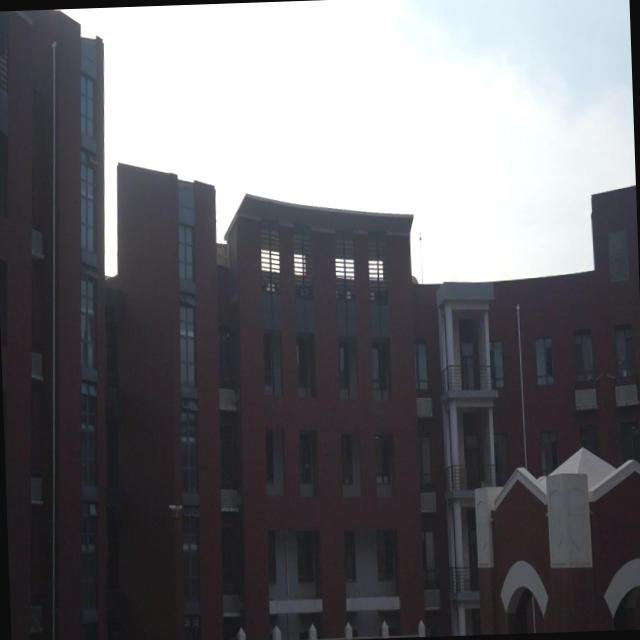drone: (167, 498, 185, 516)
